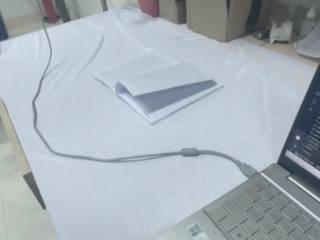box: (184, 1, 266, 44), (158, 1, 187, 25)
mouse: (275, 51, 320, 176)
